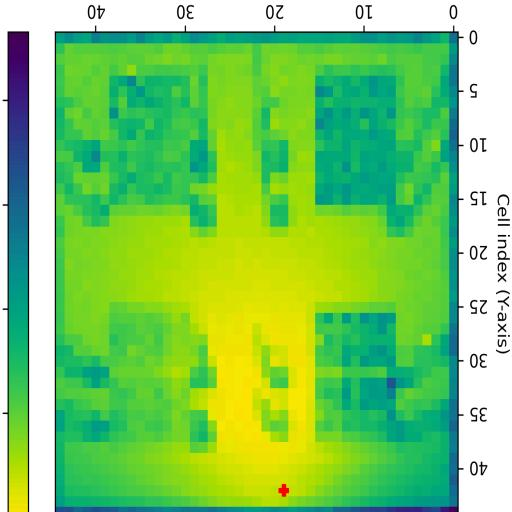Concrete: (110, 300, 190, 442)
Glass: (314, 312, 396, 444)
Metal: (108, 76, 198, 206)
Wood: (314, 74, 396, 204)
